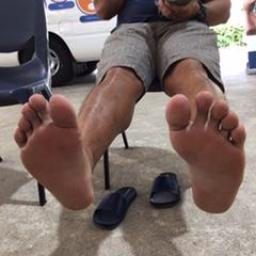Plantar View -Both Feet-: (10, 77, 252, 220)
